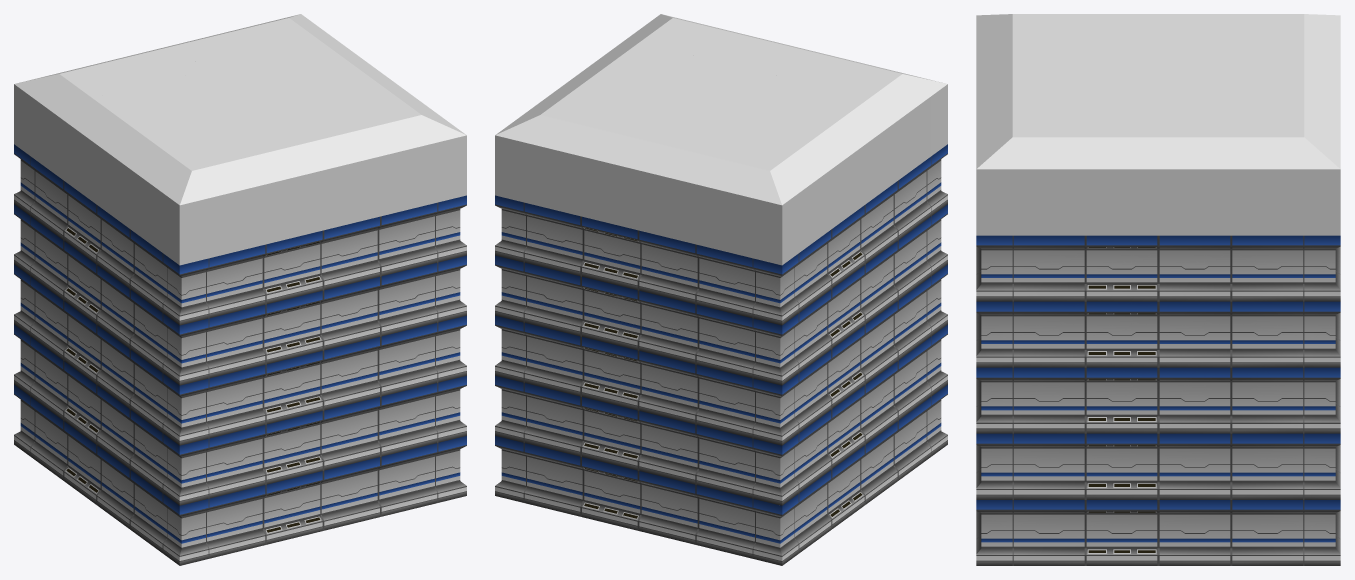
Rendered from Habitacioncerrada.fbx.
3 views of the same model, side by side, from view 1: azimuth 30°, elevation 25°; view 2: azimuth 150°, elevation 25°; view 3: azimuth 270°, elevation 25° (orthographic). The views are drawn at different scales.
Parts seen in each view (by area): view 1: Box5786, Box5771, Box5707, Box5782, Box5783, Box5784, Box5785, Box5791, Box5777, Box5801, Box5792, Box5806 (+39 smaller); view 2: Box5801, Box5684, Box5725, Box5797, Box5798, Box5799, Box5800, Box5748, Box544, Box5786, Box5806, Box5792 (+39 smaller); view 3: Box5684, Box5771, Box5776, Box5762, Box565, Box566, Box567, Box564, Box5767, Box5768, Box5769, Box5770 (+24 smaller).
Part boxes in pixels (left/top/right/bottom): Box5786: left=130, top=133, right=265, bottom=265; Box5771: left=331, top=90, right=466, bottom=216; Box5707: left=130, top=469, right=265, bottom=565; Box5782: left=130, top=409, right=265, bottom=505; Box5783: left=130, top=349, right=265, bottom=445; Box5784: left=130, top=289, right=265, bottom=385; Box5785: left=130, top=229, right=265, bottom=325; Box5791: left=274, top=105, right=380, bottom=230; Box5777: left=216, top=118, right=323, bottom=244; Box5801: left=14, top=60, right=149, bottom=179; Box5792: left=63, top=84, right=182, bottom=204; Box5806: left=97, top=108, right=215, bottom=228; Box5801: left=696, top=133, right=831, bottom=265; Box5684: left=495, top=90, right=630, bottom=216; Box5725: left=696, top=469, right=831, bottom=565; Box5797: left=696, top=409, right=831, bottom=505; Box5798: left=696, top=349, right=831, bottom=445; Box5799: left=696, top=289, right=831, bottom=385; Box5800: left=696, top=229, right=831, bottom=325; Box5748: left=638, top=118, right=745, bottom=244; Box544: left=581, top=105, right=687, bottom=230; Box5786: left=812, top=60, right=947, bottom=179; Box5806: left=779, top=84, right=898, bottom=204; Box5792: left=746, top=108, right=864, bottom=228; Box5684: left=1231, top=106, right=1340, bottom=235; Box5771: left=976, top=106, right=1085, bottom=235; Box5776: left=1158, top=106, right=1231, bottom=235; Box5762: left=1085, top=106, right=1158, bottom=235; Box565: left=1231, top=367, right=1340, bottom=433; Box566: left=1231, top=301, right=1340, bottom=367; Box567: left=1231, top=235, right=1340, bottom=301; Box564: left=1231, top=433, right=1340, bottom=499; Box5767: left=976, top=433, right=1085, bottom=499; Box5768: left=976, top=367, right=1085, bottom=433; Box5769: left=976, top=301, right=1085, bottom=367; Box5770: left=976, top=235, right=1085, bottom=301.
Size of the model in its own units: 197 by 246 by 197.
Materials: 1 (1 with a texture image).
